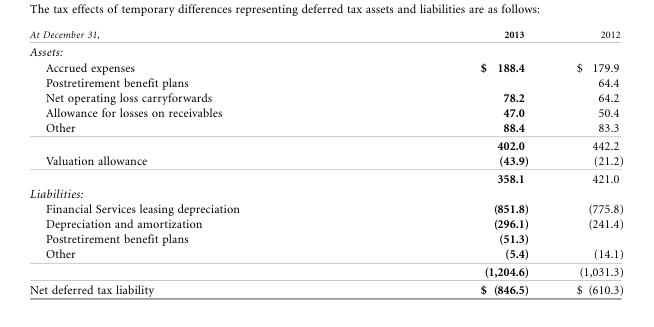table: (29, 28, 623, 295)
table column: (29, 28, 359, 295), (359, 28, 551, 295), (551, 28, 623, 295)
table column header: (29, 28, 623, 42)
table projected row header: (29, 42, 623, 59), (29, 185, 623, 200)
table row: (29, 262, 623, 280), (29, 42, 623, 59), (29, 152, 623, 169), (29, 104, 623, 120), (29, 120, 623, 136), (29, 136, 623, 152), (29, 169, 623, 185), (29, 215, 623, 231), (29, 246, 623, 262), (29, 59, 623, 74), (29, 74, 623, 89), (29, 89, 623, 104), (29, 185, 623, 200), (29, 200, 623, 215), (29, 231, 623, 246), (29, 280, 623, 295), (29, 28, 623, 42)
